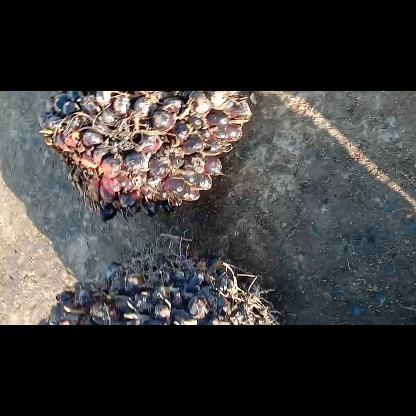TBS mentah: (35, 90, 256, 224), (42, 246, 284, 324)
